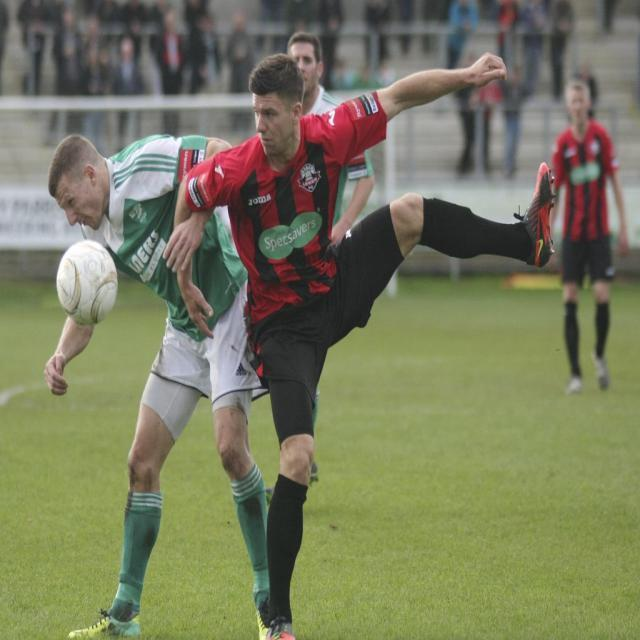football: (47, 242, 133, 334)
